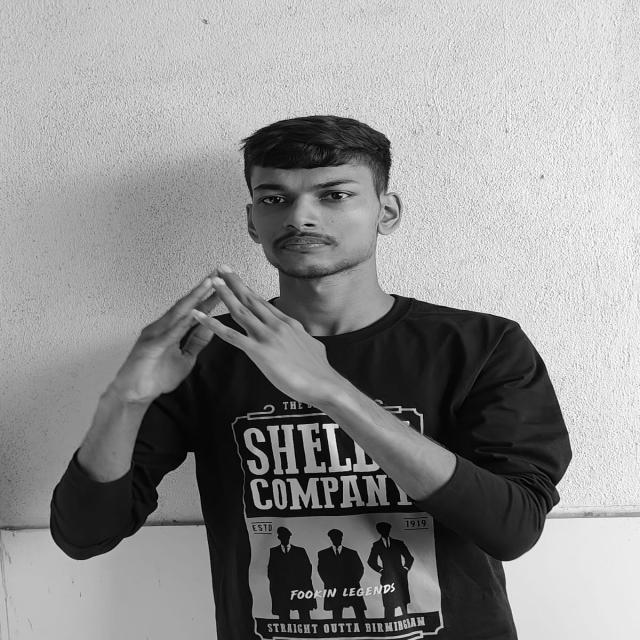Home: (114, 264, 330, 406)
